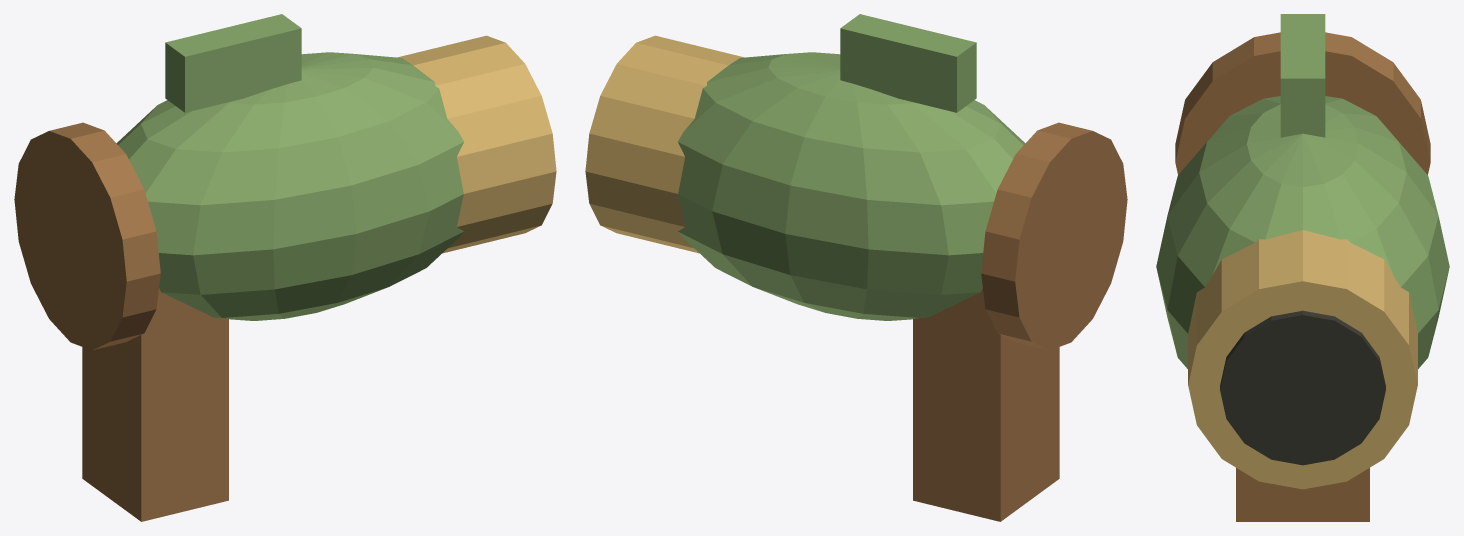
File: seed-launcher.glb
3 views of the same model, side by side, from view 1: azimuth 30°, elevation 25°; view 2: azimuth 150°, elevation 25°; view 3: azimuth 270°, elevation 25° (orthographic). The views are drawn at different scales.
Visible parts, largest first — view 1: Seed bulb, Wooden grip, Back cap, Brass muzzle, Leaf fin; view 2: Seed bulb, Wooden grip, Back cap, Brass muzzle, Leaf fin; view 3: Seed bulb, Brass muzzle, Dark bore, Back cap, Leaf fin, Wooden grip.
Boxes of the visible parts, left/top/right/bottom form: Seed bulb: left=116, top=52, right=463, bottom=320; Wooden grip: left=82, top=288, right=228, bottom=521; Back cap: left=14, top=122, right=160, bottom=350; Brass muzzle: left=397, top=35, right=556, bottom=253; Leaf fin: left=165, top=14, right=301, bottom=112; Seed bulb: left=678, top=52, right=1025, bottom=320; Wooden grip: left=913, top=288, right=1059, bottom=521; Back cap: left=981, top=122, right=1127, bottom=350; Brass muzzle: left=585, top=35, right=744, bottom=253; Leaf fin: left=840, top=14, right=976, bottom=112; Seed bulb: left=1156, top=96, right=1449, bottom=368; Brass muzzle: left=1188, top=230, right=1417, bottom=489; Dark bore: left=1220, top=310, right=1385, bottom=465; Back cap: left=1175, top=32, right=1430, bottom=174; Leaf fin: left=1280, top=14, right=1325, bottom=137; Wooden grip: left=1236, top=468, right=1369, bottom=521.
Size of the model in its own units: 0.4565 by 0.4275 by 0.23.
